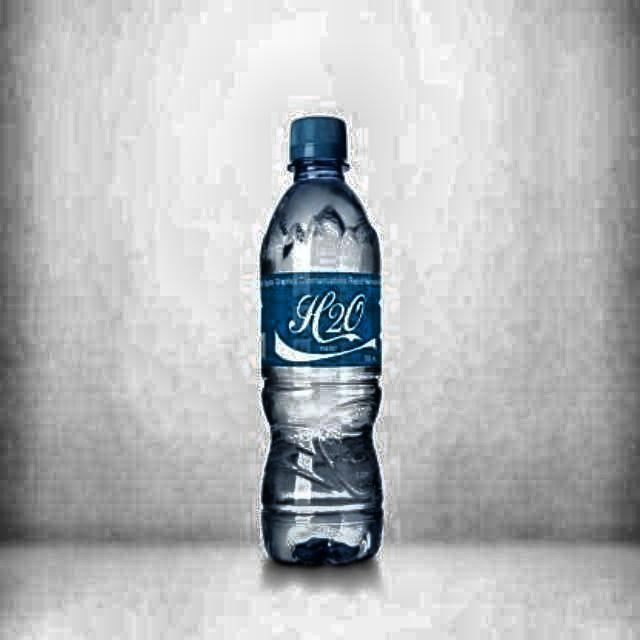Bottles: (244, 105, 391, 581)
